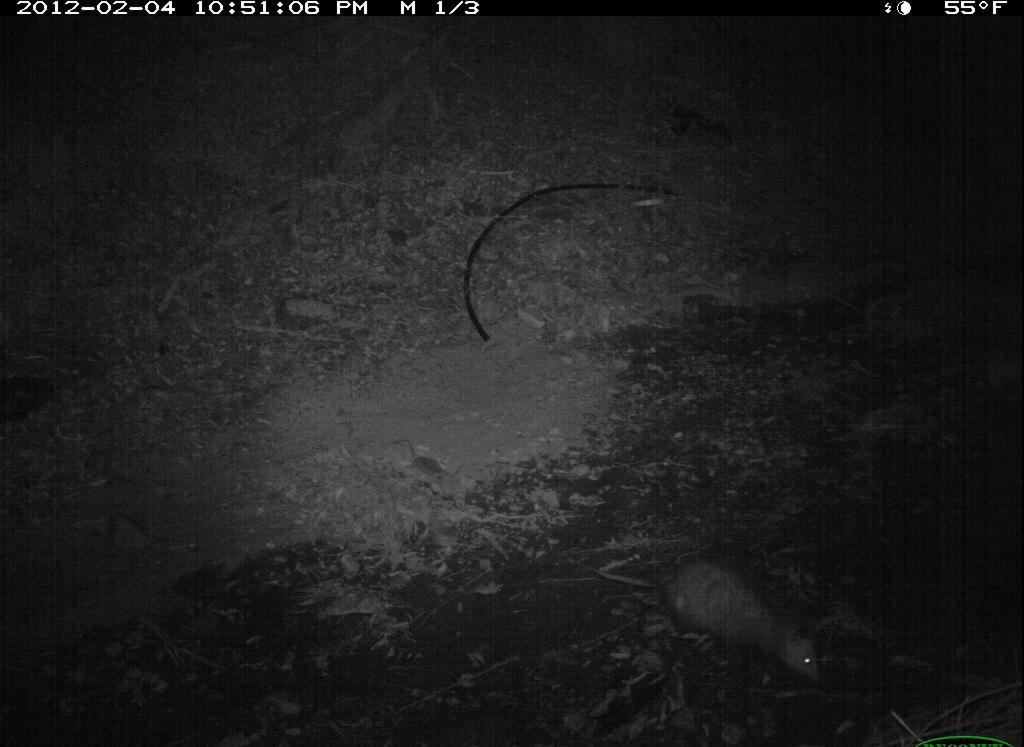opossum: (649, 555, 831, 690)
